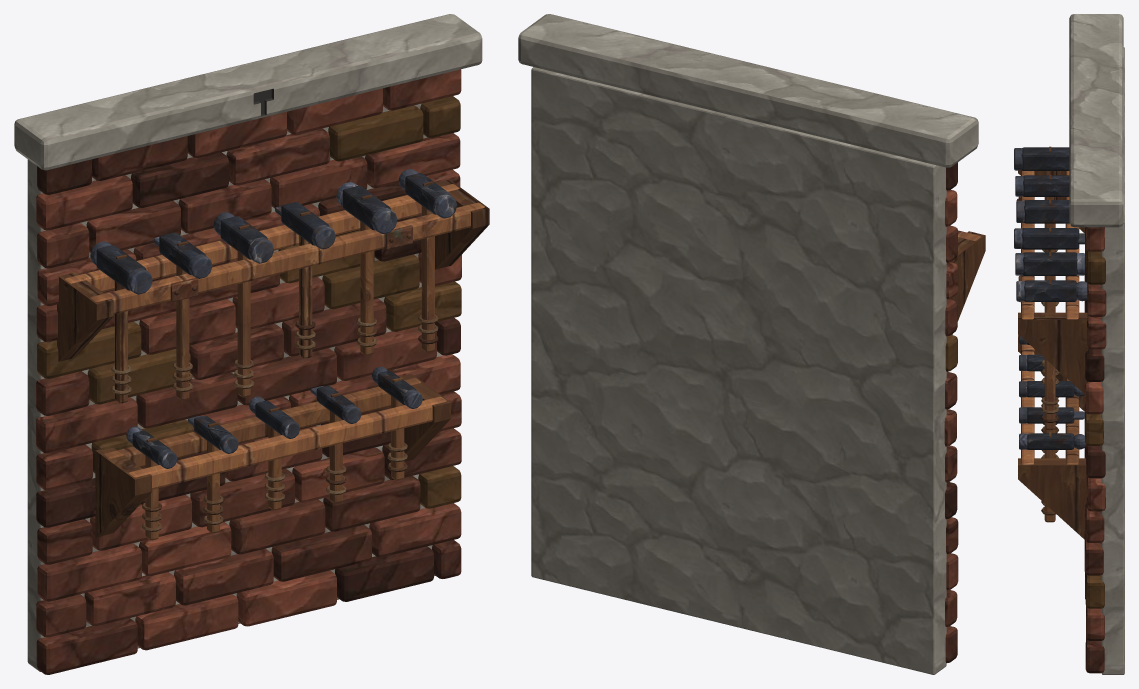
The model's file is ef_hammer_rack.glb.
3 views of the same model, side by side, from view 1: azimuth 30°, elevation 25°; view 2: azimuth 150°, elevation 25°; view 3: azimuth 270°, elevation 25° (orthographic). The views are drawn at different scales.
Visible parts, largest first — view 1: model; view 2: model; view 3: model.
Boxes of the visible parts, left/top/right/bottom form: model: left=14, top=14, right=489, bottom=674; model: left=518, top=14, right=985, bottom=674; model: left=1014, top=14, right=1124, bottom=674.
Bounding box in the file's own units: 1.15 × 1.37 × 0.2855.
17 materials, 16 textured.
